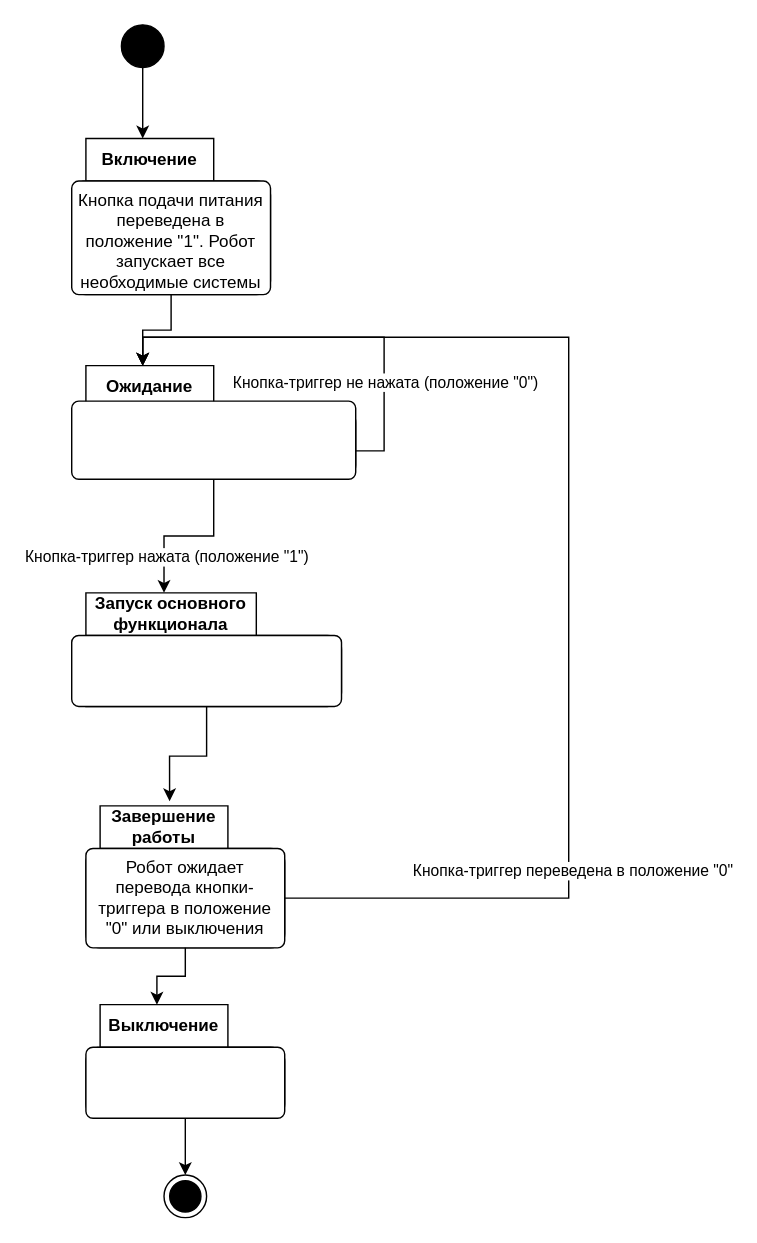
This 757x1243 diagram has some shape labels left out. Here are the shapes that lost their labels. From the top down, the centre of each, then its label:
(x=213, y=439): Робот ожидает нажания на кнопку-триггер для запуска основного функционала
(x=206, y=670): Запускается основной функционал робота
(x=184, y=1082): Кнопка подачи питания переведена в положение "0"
